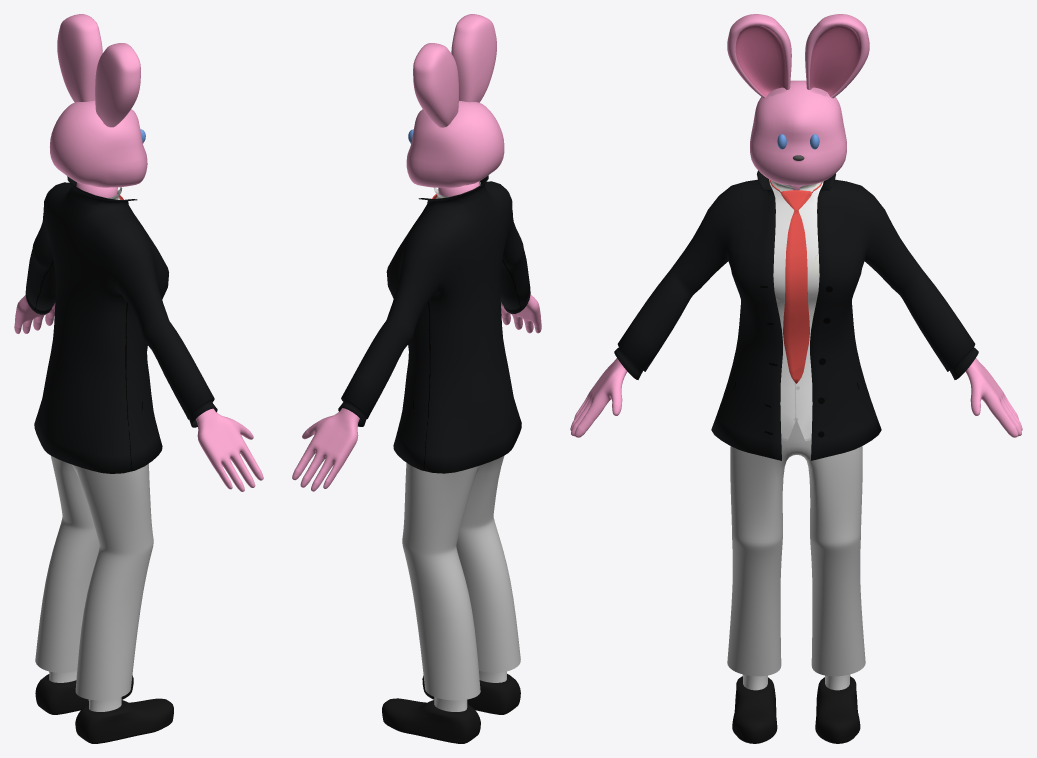
Rendered from bunny.fbx.
The picture shows the model from 3 angles, left to right: view 1: azimuth 30°, elevation 25°; view 2: azimuth 150°, elevation 25°; view 3: azimuth 270°, elevation 25°; orthographic projection. The views are drawn at different scales.
Visible parts, largest first — view 1: Terno, Calça, Cabeça, Mão.001, Sapato, Orelhas, Orelhas.001, Sapato1, Mão; view 2: Terno, Calça, Cabeça, Mão, Orelhas.001, Sapato1, Orelhas, Sapato, Mão.001; view 3: Terno, Calça, Cabeça, CamisaBranca, Orelhas.001, Orelhas, Gravata, Sapato1, Sapato, Mão, Mão.001.
Part boxes in pixels (x1,y1,x2,y2): Terno: (25, 176, 217, 473); Calça: (35, 455, 153, 700); Cabeça: (50, 100, 147, 187); Mão.001: (196, 408, 263, 491); Sapato: (75, 698, 173, 743); Orelhas: (57, 14, 102, 102); Orelhas.001: (95, 43, 140, 127); Sapato1: (35, 674, 133, 714); Mão: (14, 295, 55, 333); Terno: (338, 175, 530, 473); Calça: (402, 456, 520, 700); Cabeça: (406, 100, 504, 187); Mão: (292, 408, 359, 491); Orelhas.001: (451, 14, 496, 102); Sapato1: (382, 698, 480, 743); Orelhas: (413, 43, 458, 127); Sapato: (422, 674, 520, 714); Mão.001: (501, 294, 541, 333); Terno: (614, 170, 978, 460); Calça: (727, 419, 865, 676); Cabeça: (750, 80, 846, 185); CamisaBranca: (769, 179, 823, 441); Orelhas.001: (727, 14, 791, 98); Orelhas: (805, 14, 869, 98); Gravata: (770, 180, 822, 383); Sapato1: (815, 676, 860, 743); Sapato: (732, 676, 777, 743); Mão: (965, 358, 1022, 437); Mão.001: (570, 358, 627, 437).
Bounding box in the file's own units: 128 × 708 × 412.
